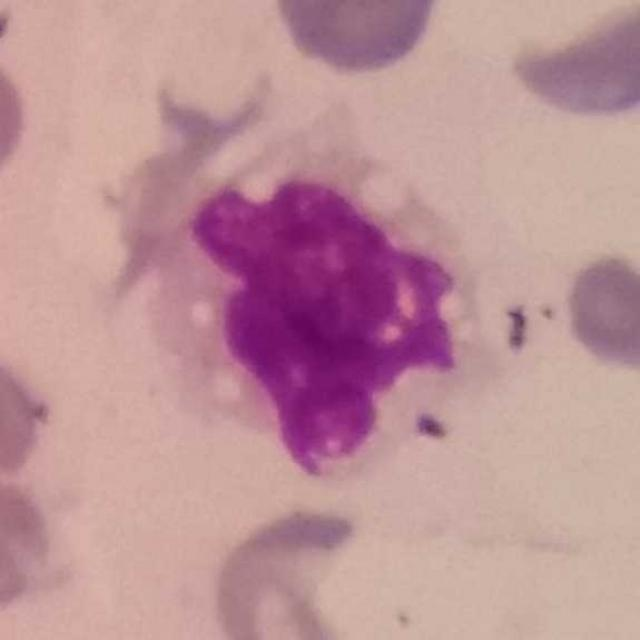Monocyte: (108, 89, 488, 483)
Platelets: (499, 301, 533, 355), (408, 407, 453, 443)
RBC: (204, 500, 382, 640), (500, 0, 639, 128), (264, 0, 448, 81), (558, 247, 640, 378), (0, 335, 58, 503), (0, 462, 58, 624), (0, 31, 35, 207)
